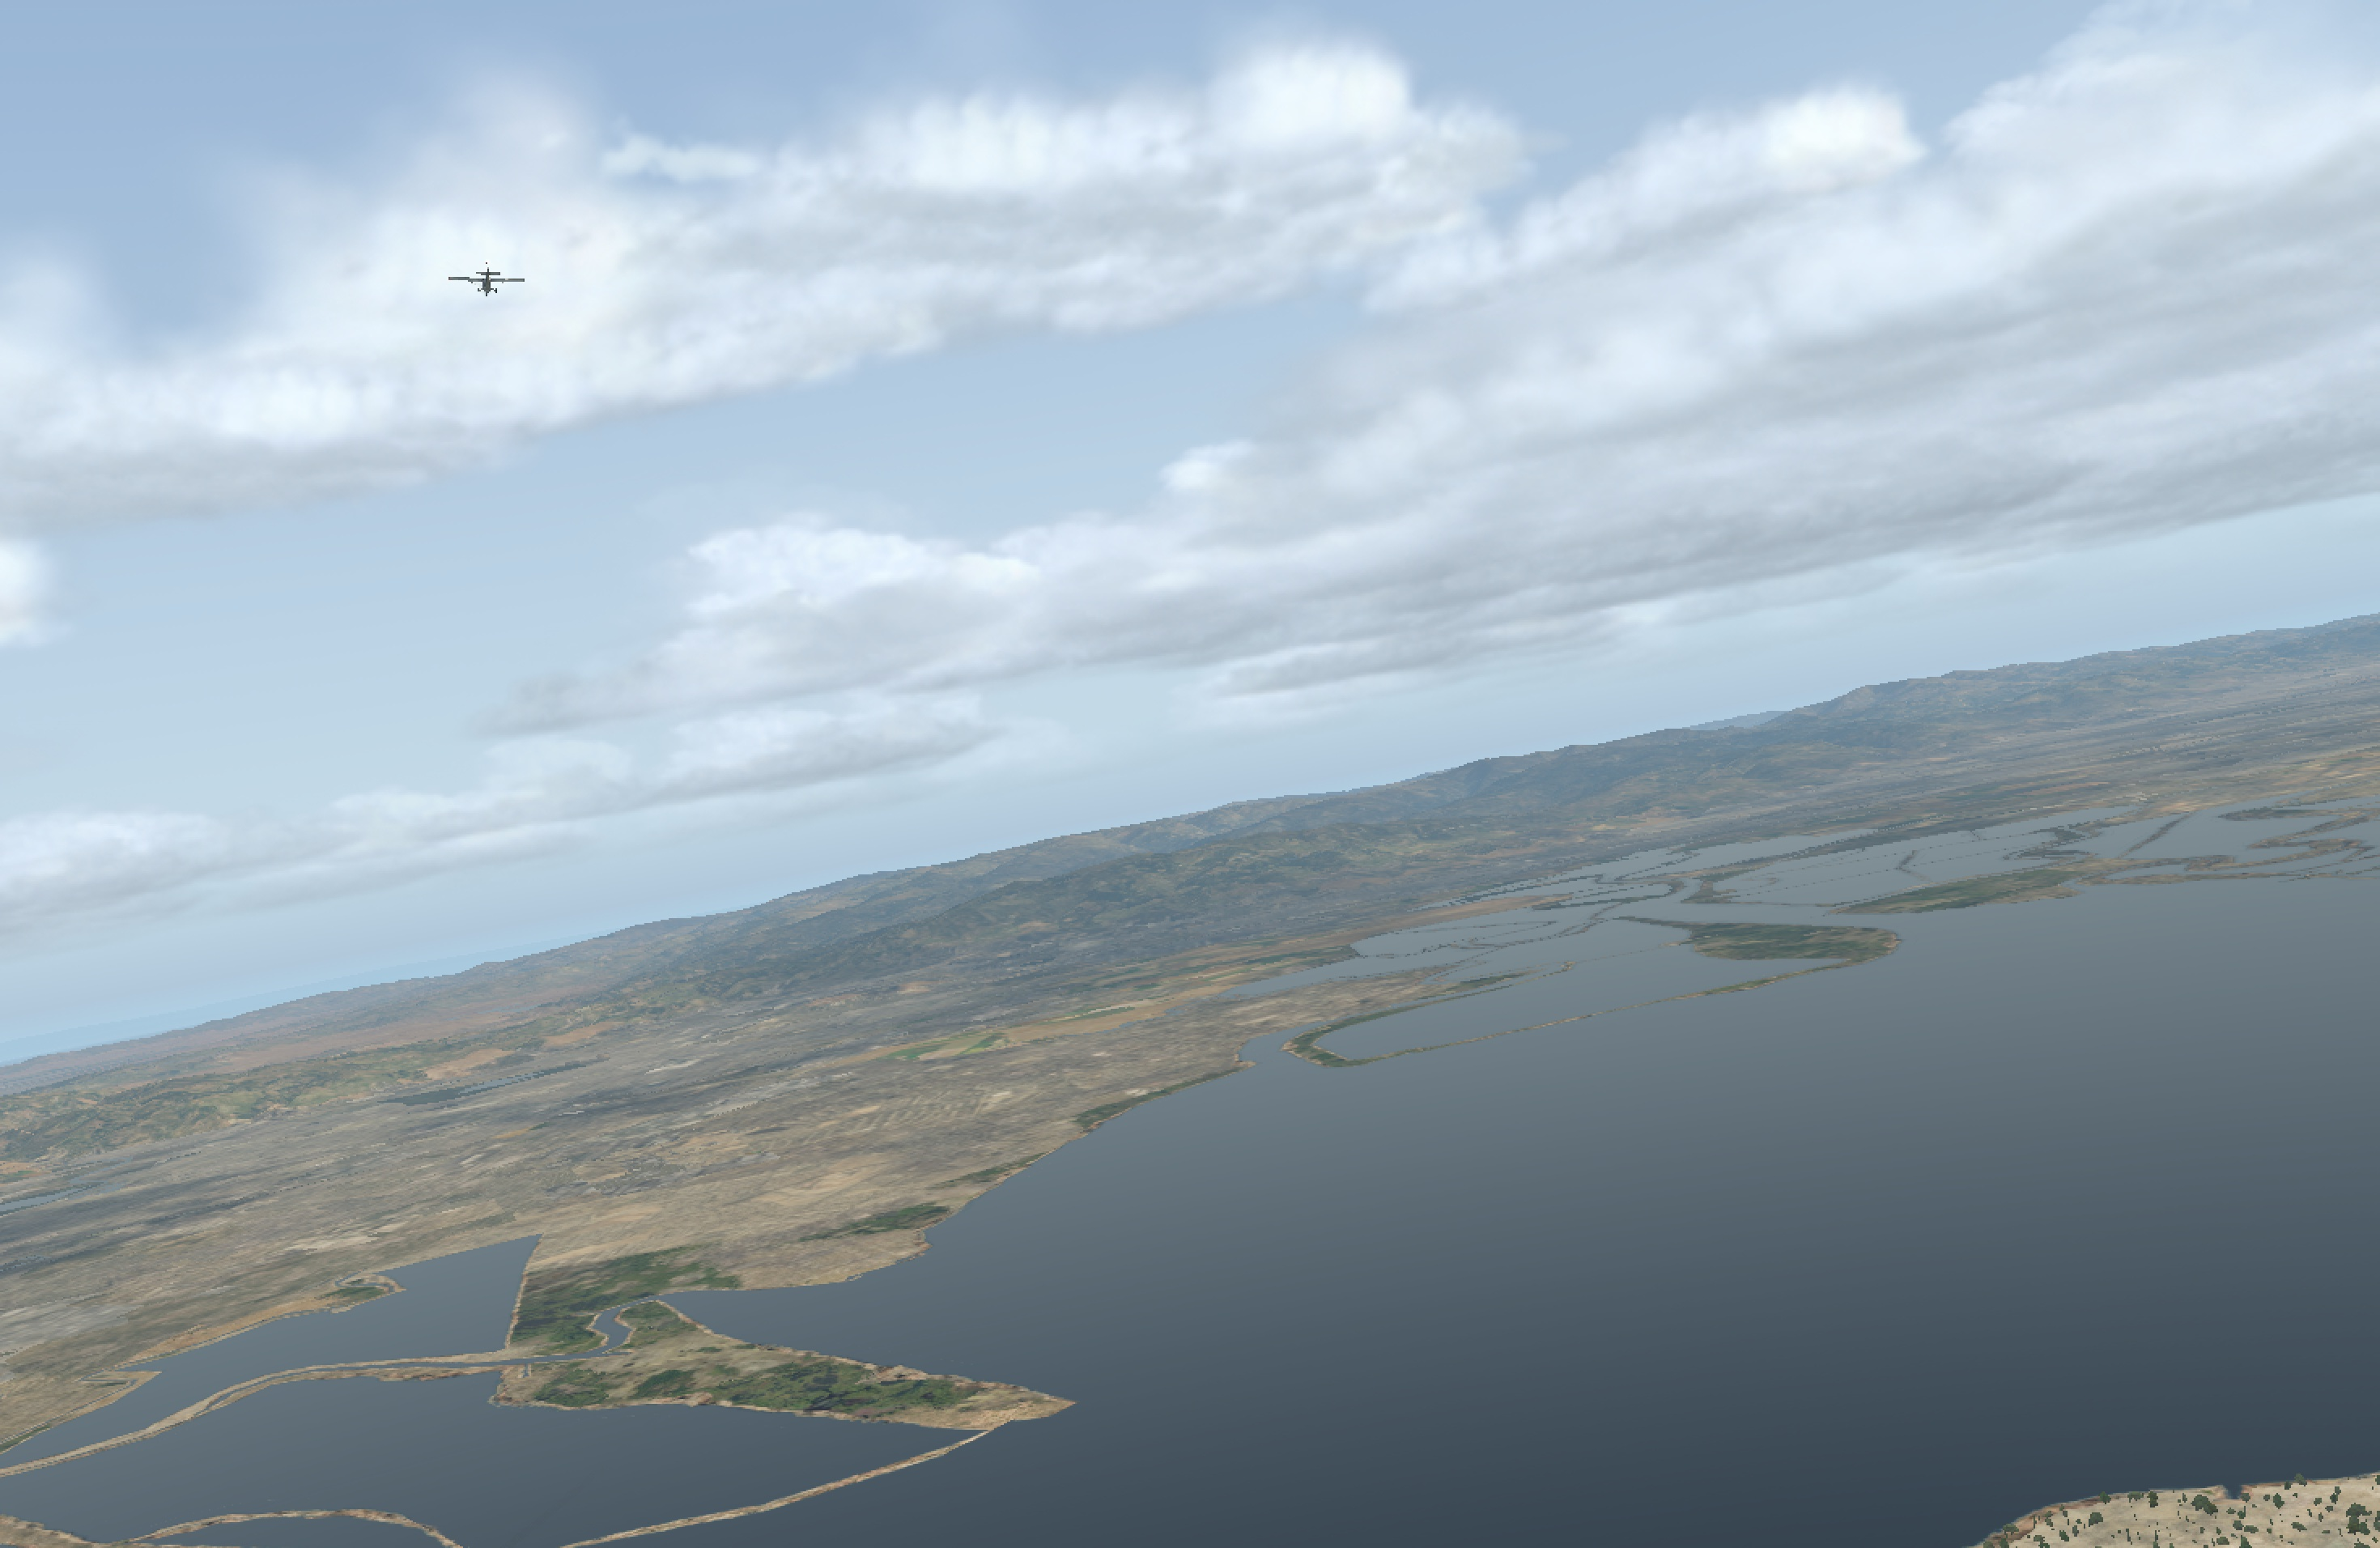aircraft: (463, 276, 512, 293)
